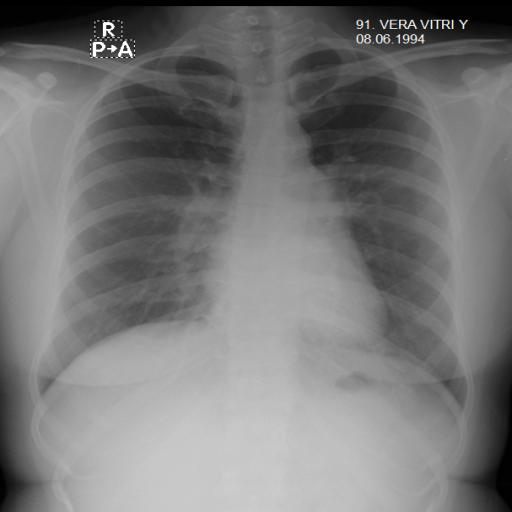normal: (26, 23, 474, 425)
